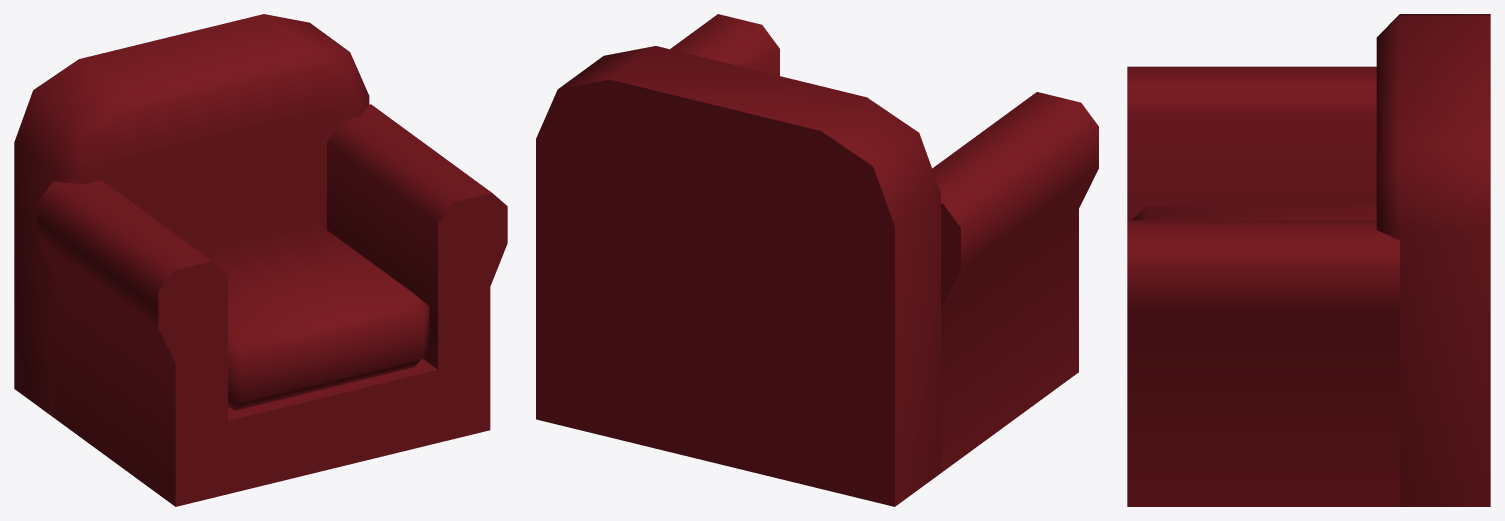
Rendered from Mesh_SillonSingle.fbx.
The picture shows the model from 3 angles, left to right: view 1: azimuth 30°, elevation 25°; view 2: azimuth 150°, elevation 25°; view 3: azimuth 270°, elevation 25°; orthographic projection. The views are drawn at different scales.
Parts seen in each view (by area): view 1: Mesh_SillonSingle; view 2: Mesh_SillonSingle; view 3: Mesh_SillonSingle.
Part boxes in pixels (x1,y1,x2,y2): Mesh_SillonSingle: [14, 14, 507, 506]; Mesh_SillonSingle: [536, 14, 1098, 506]; Mesh_SillonSingle: [1127, 14, 1490, 506].
Bounding box in the file's own units: 80 × 68.61 × 64.
